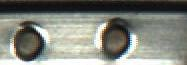joints: (95, 16, 138, 60), (9, 20, 47, 62)
press: (2, 0, 150, 64)
